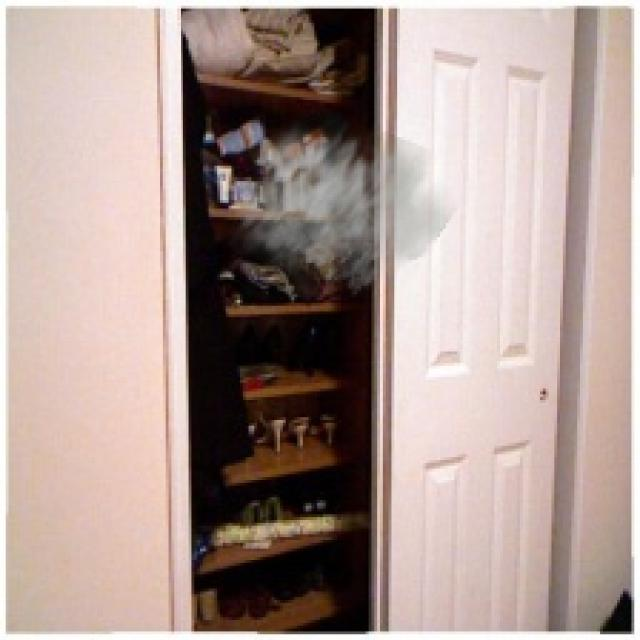Smoke: (223, 97, 463, 297)
